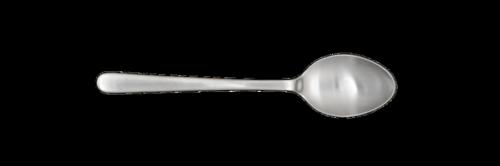Spoon: (96, 52, 397, 119)
